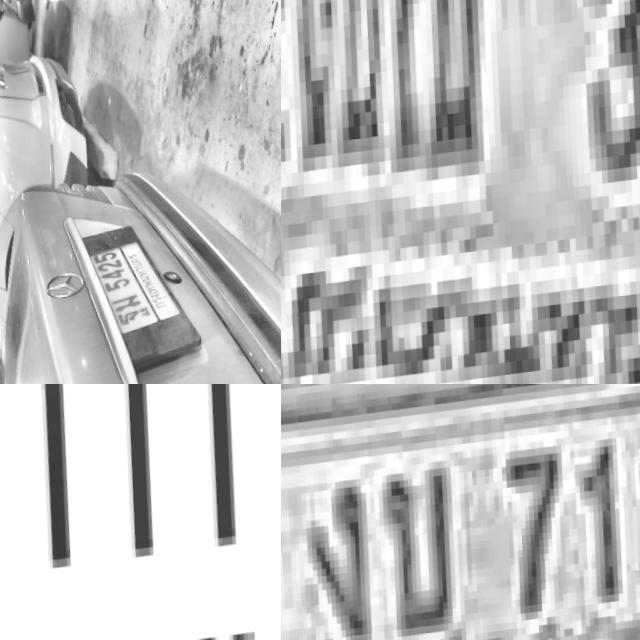license-plate: (281, 0, 640, 384), (281, 384, 640, 640), (0, 384, 281, 640), (25, 330, 93, 384)
